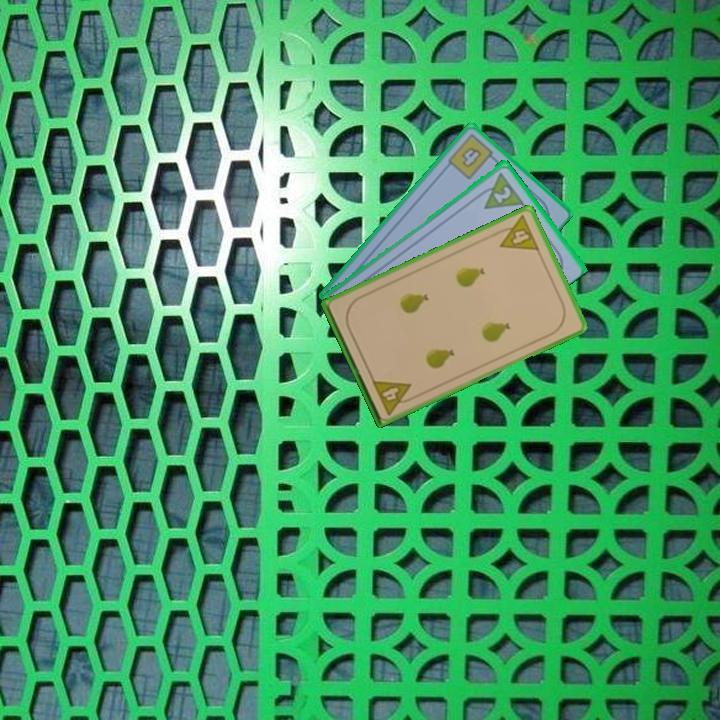2p: (473, 168, 526, 212)
4b: (444, 130, 500, 182)
4p: (491, 212, 542, 254), (368, 376, 418, 418)
